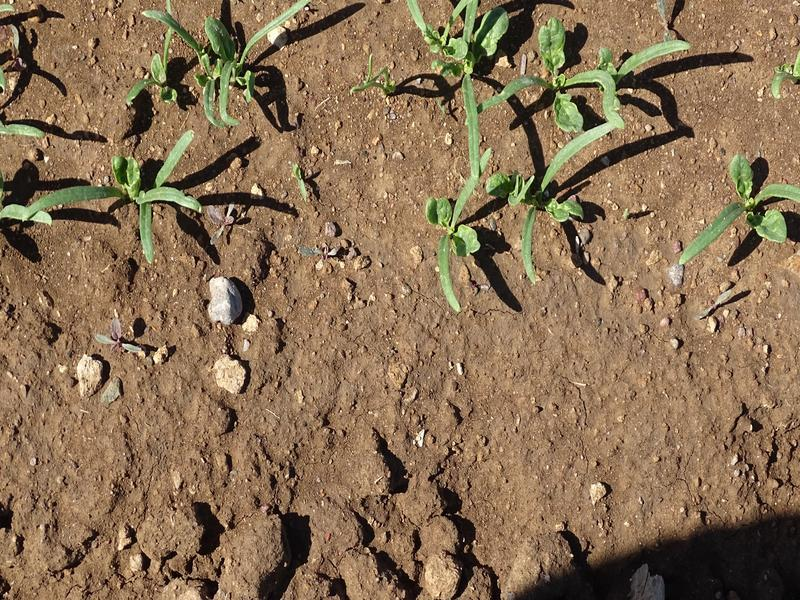Espinaca: (393, 4, 683, 318), (1, 129, 205, 255), (131, 3, 318, 128), (673, 155, 800, 265)
